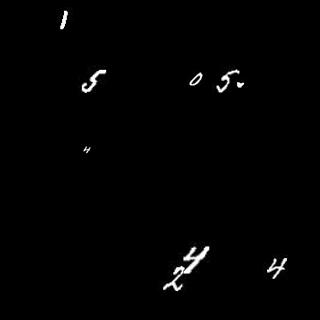dot: (234, 76, 247, 90)
five: (81, 65, 113, 94), (214, 69, 237, 94)
four: (185, 244, 214, 274), (266, 255, 288, 282), (81, 143, 95, 154)
one: (57, 10, 68, 30)
two: (162, 265, 184, 294)
zero: (188, 70, 202, 86)
